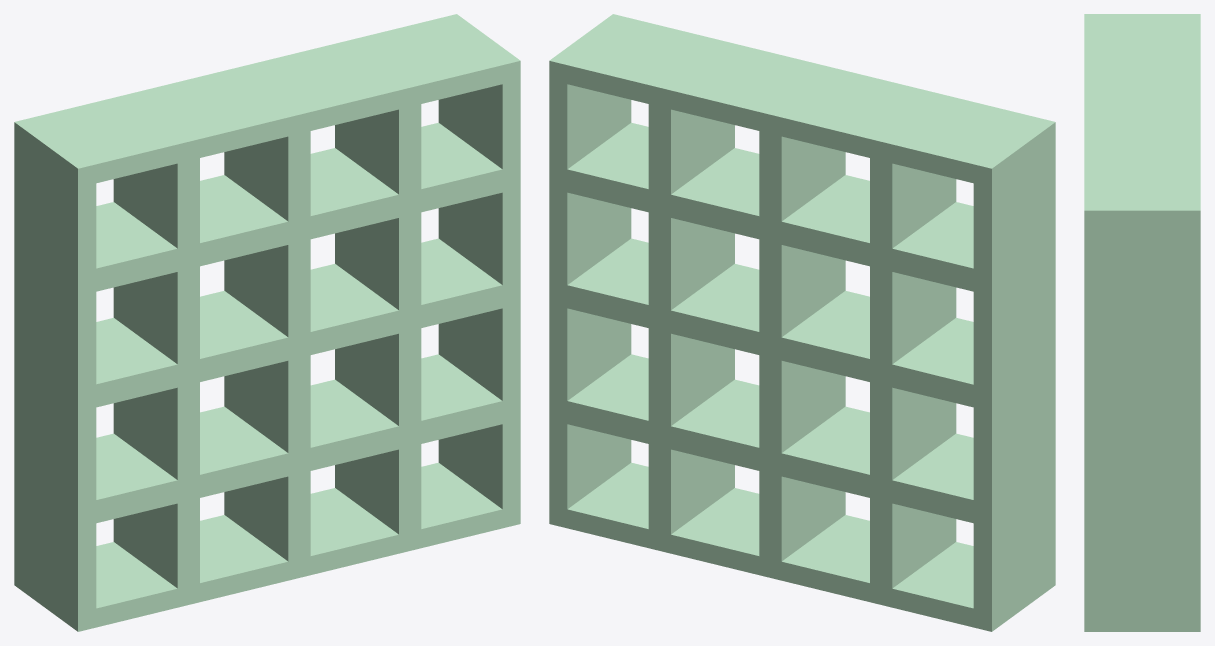
Rendered from Kallax.fbx.
The picture shows the model from 3 angles, left to right: view 1: azimuth 30°, elevation 25°; view 2: azimuth 150°, elevation 25°; view 3: azimuth 270°, elevation 25°; orthographic projection. The views are drawn at different scales.
Parts seen in each view (by area): view 1: Kallax; view 2: Kallax; view 3: Kallax.
Boxes of the visible parts, x1=… form: Kallax: x1=14, y1=14, x2=520, y2=631; Kallax: x1=549, y1=14, x2=1055, y2=631; Kallax: x1=1084, y1=14, x2=1200, y2=631.
Size of the model in its own units: 400 by 400 by 100.
